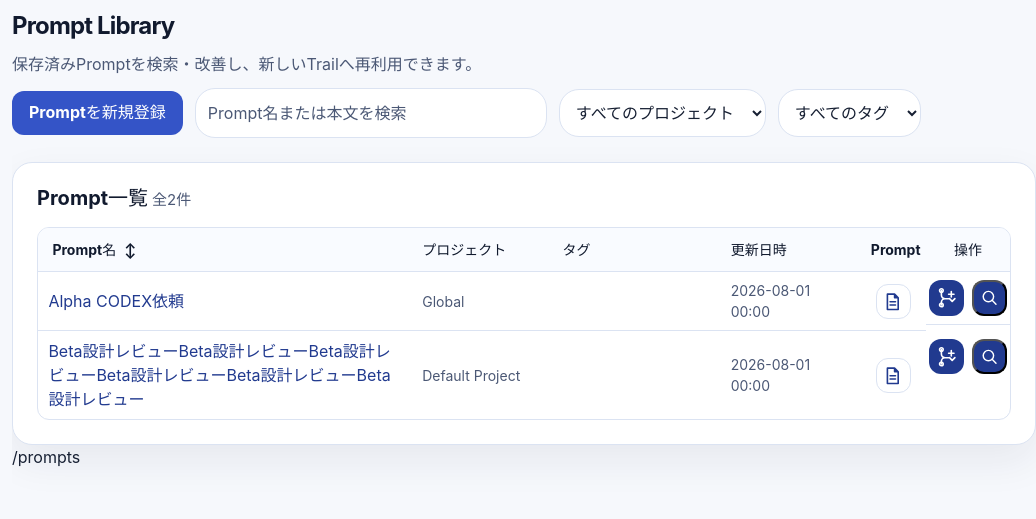
PromptLibraryPage › combines Project filtering and search, shows counts, and clears both conditions
Select "Global" in the 1st dropdown named "プロジェクト". click: [662, 113]
box: [559,89,766,137]
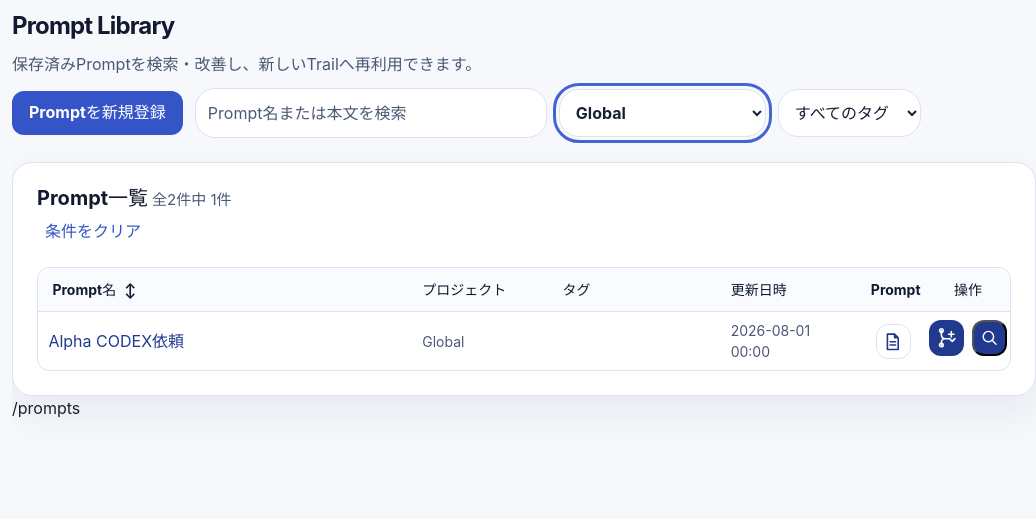
Expected: the link "Alpha CODEX依頼" is shown, [48,332,184,352]
Now the text "全2件中 1件" is shown, box [152,189,232,211]
Type "  日本語  " into the search field named "Promptを検索". click: [371, 113]
box: [195,88,547,138]
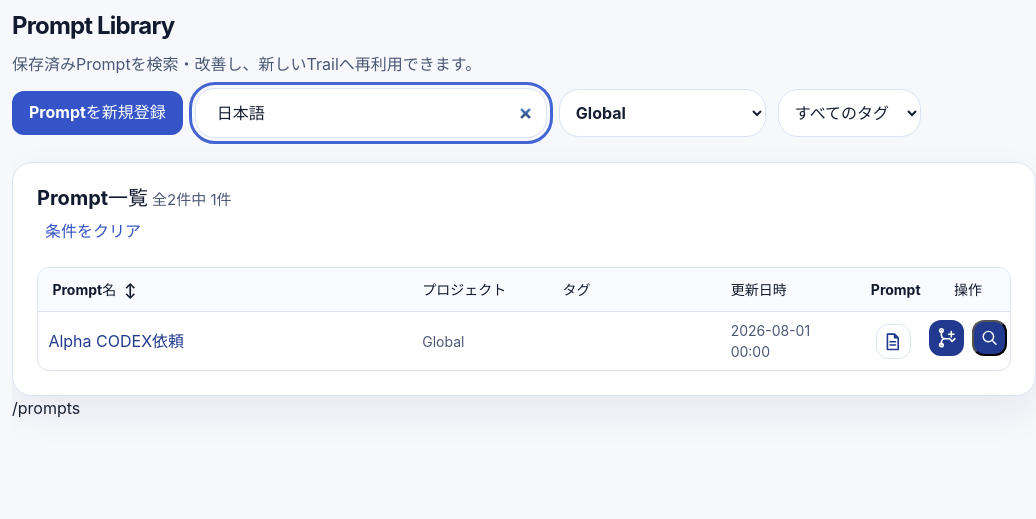
Now the text "全2件中 1件" is shown, box [152,189,232,211]
Replace the text in the search field named "Promptを検索" with "別の検索対象". click: [371, 113]
box: [195,88,547,138]
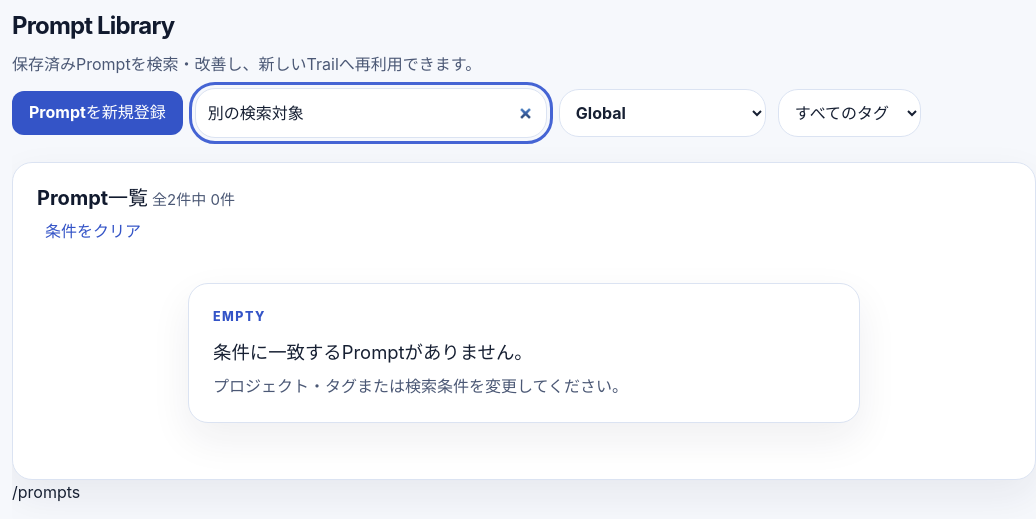
Now the text "全2件中 0件" is shown, box [152,189,235,211]
Now the text "条件に一致するPromptがありません。" is shown, box [213,341,533,363]
Now the text "プロジェクト・タグまたは検索条件を変更してください。" is shown, box [213,376,628,396]
Click the button "条件をクリア". click: [93, 231]
box: [37,211,149,251]
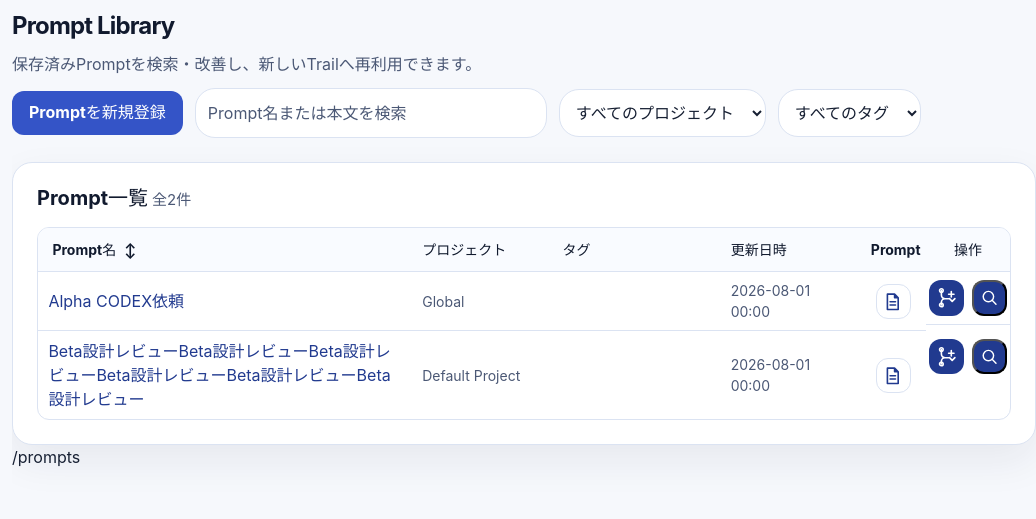
Expected: the text "全2件" is shown, [152,189,191,211]
Now the number of rows is 3, box [38,228,1010,272]; [38,272,1010,331]; [38,331,1010,420]
